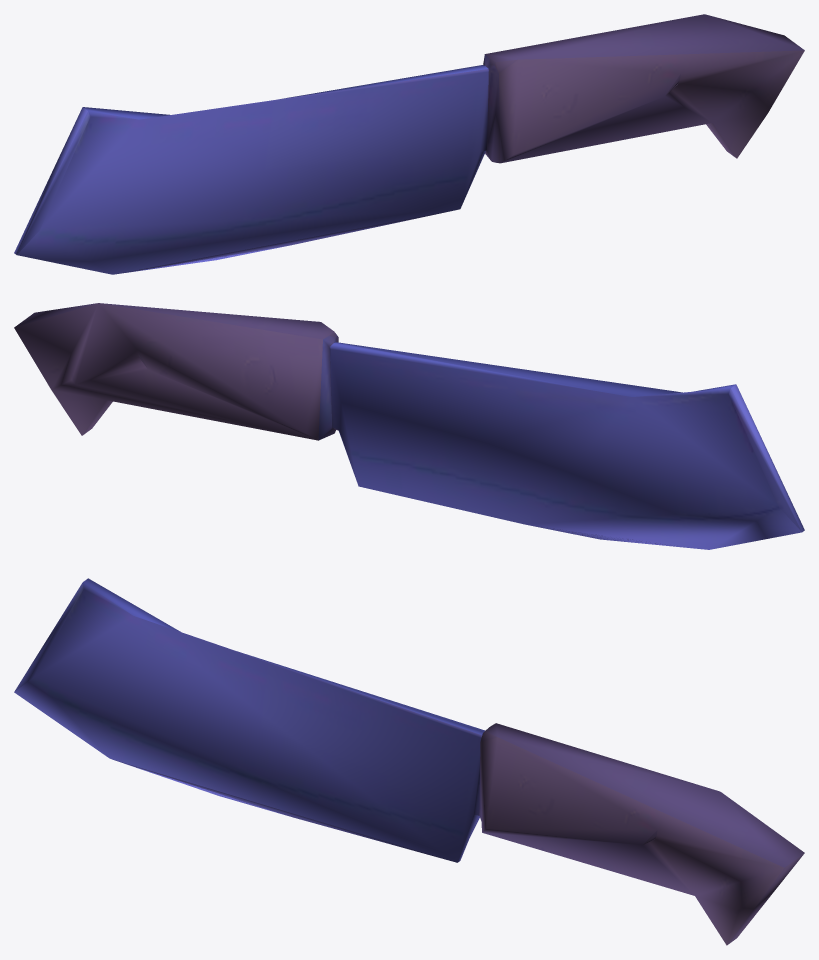
File: model.progressive.glb
The picture shows the model from 3 angles, top to bottom: view 1: azimuth 30°, elevation 25°; view 2: azimuth 150°, elevation 25°; view 3: azimuth 330°, elevation 25°; orthographic projection.
Parts seen in each view (by area): view 1: texture_pbr_20250901; view 2: texture_pbr_20250901; view 3: texture_pbr_20250901.
Boxes of the visible parts, x1,y1,x2,y2 form: texture_pbr_20250901: (14,14,804,274); texture_pbr_20250901: (14,303,804,549); texture_pbr_20250901: (14,578,804,945).
Size of the model in its own units: 1.89 by 0.4727 by 0.1191.
Materials: 1 (1 with a texture image).
